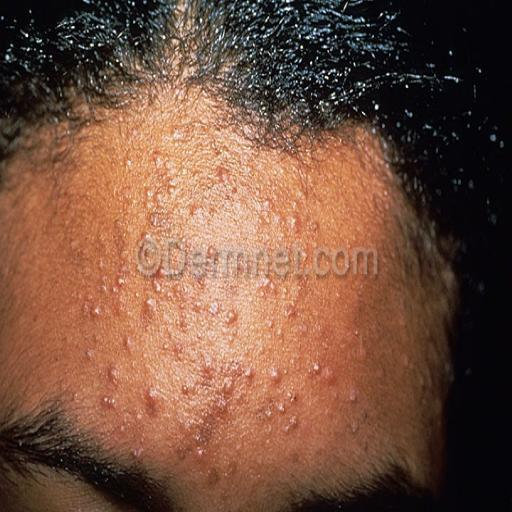Skin_Lesion: (272, 365, 302, 438), (94, 254, 130, 306), (177, 239, 216, 282), (149, 150, 185, 190), (283, 204, 316, 246), (182, 414, 210, 459), (144, 184, 179, 220), (172, 300, 204, 338), (73, 294, 103, 334), (206, 297, 242, 329), (257, 269, 282, 314), (313, 360, 341, 394), (144, 270, 176, 299), (110, 206, 134, 244), (288, 302, 312, 339), (223, 363, 244, 405), (255, 199, 275, 243), (218, 164, 240, 202), (134, 296, 160, 328), (160, 338, 186, 367), (316, 320, 332, 358), (189, 203, 213, 227), (174, 380, 193, 408), (106, 364, 126, 390), (145, 376, 159, 412), (101, 389, 123, 411), (130, 444, 144, 475), (196, 356, 215, 378), (350, 382, 368, 404), (246, 365, 258, 389), (120, 332, 132, 354), (350, 419, 360, 443), (84, 346, 94, 360)
